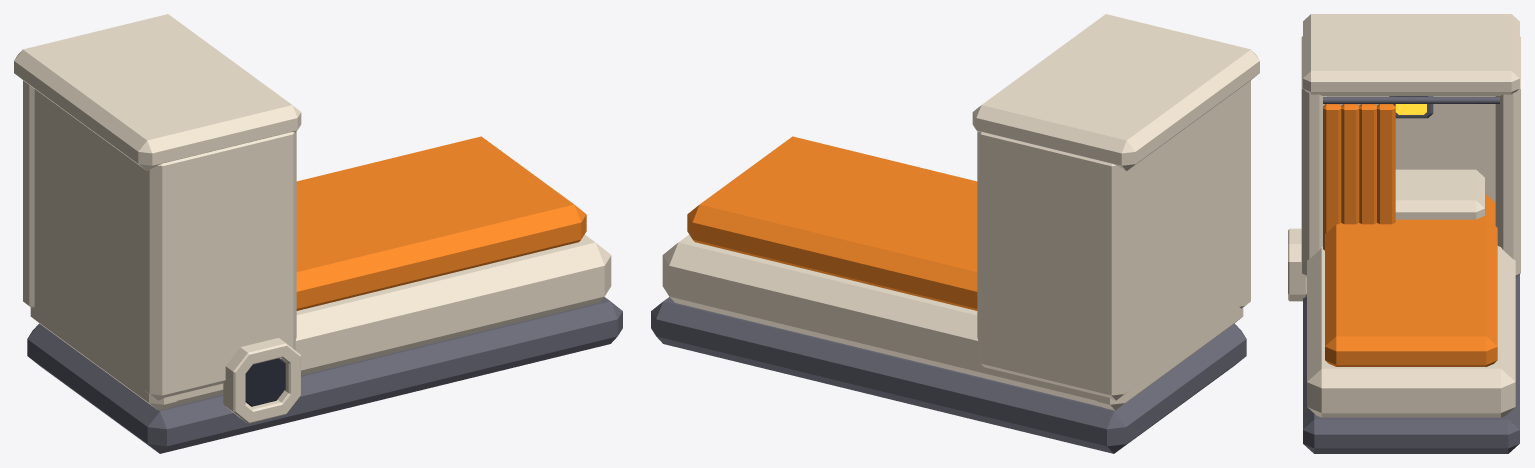
Rendered from asset.glb.
3 renders of one model, left to right at view 1: azimuth 30°, elevation 25°; view 2: azimuth 150°, elevation 25°; view 3: azimuth 270°, elevation 25°, orthographic. The views are drawn at different scales.
Visible parts, largest first — view 1: bunk_smooth-structure, Orange mattress blanket, bunk_smooth-structure_structure-gray, Dark charging recess; view 2: bunk_smooth-structure, Orange mattress blanket, bunk_smooth-structure_structure-gray; view 3: bunk_smooth-structure, Orange mattress blanket, bunk_smooth-structure_structure-gray, privacy_curtain_accent-paint, Amber reading lamp.
Part boxes in pixels (box(x1,y1,x2,y2)): bunk_smooth-structure: box(14, 14, 611, 423); Orange mattress blanket: box(296, 136, 586, 310); bunk_smooth-structure_structure-gray: box(27, 297, 622, 453); Dark charging recess: box(245, 358, 285, 406); bunk_smooth-structure: box(662, 14, 1259, 410); Orange mattress blanket: box(687, 136, 977, 310); bunk_smooth-structure_structure-gray: box(651, 297, 1246, 453); bunk_smooth-structure: box(1288, 14, 1520, 417); Orange mattress blanket: box(1325, 194, 1497, 366); bunk_smooth-structure_structure-gray: box(1303, 96, 1519, 453); privacy_curtain_accent-paint: box(1323, 104, 1395, 250); Amber reading lamp: box(1395, 104, 1426, 114).
Bounding box in the file's own units: 2.15 × 1.35 × 1.1.
